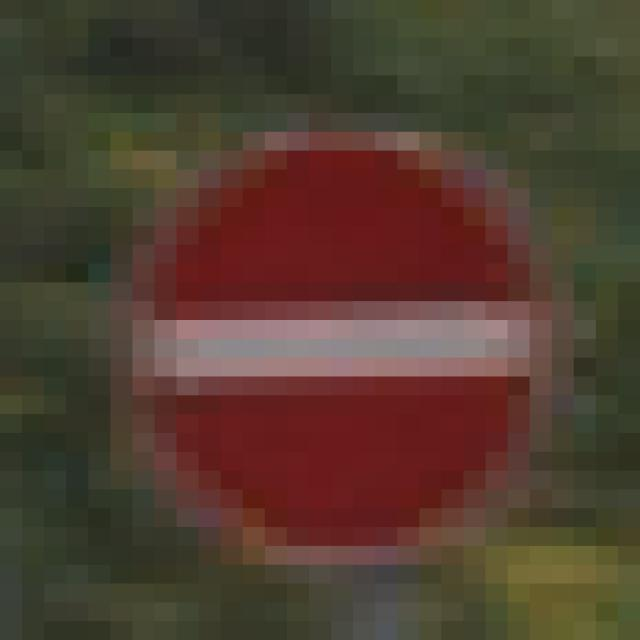No Entry: (111, 114, 531, 547)
